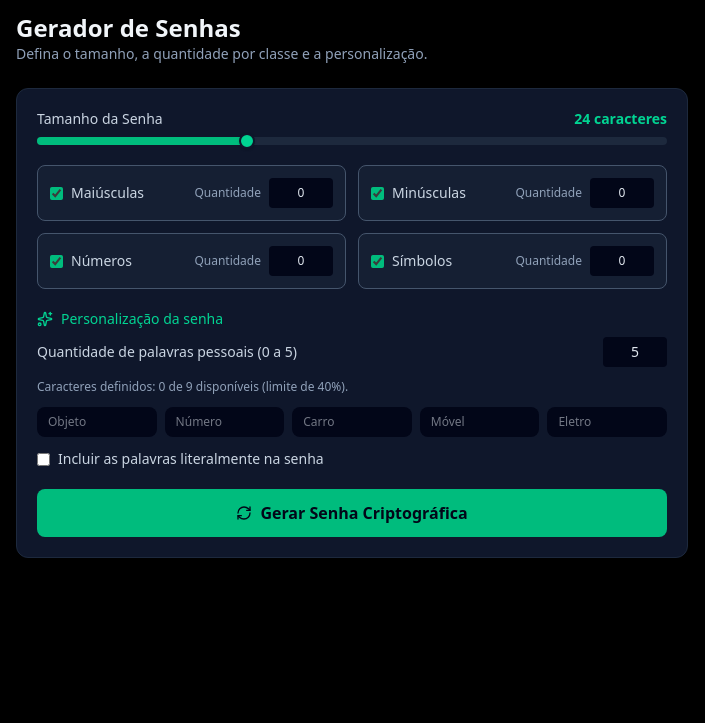
Generator › gera a senha pedindo ao processo main, não no renderer
Click the button "Gerar Senha Criptográfica" at (352, 513), box [37, 489, 667, 537]
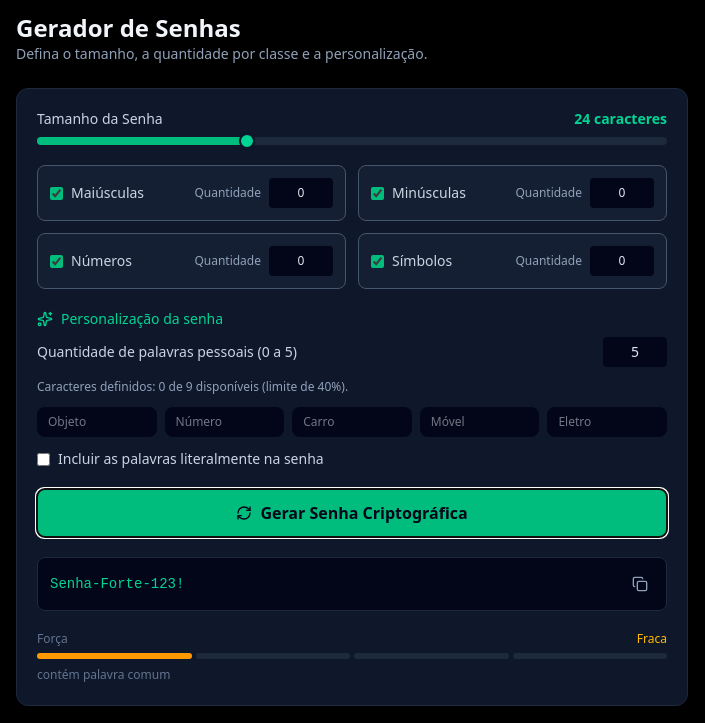
Check: the text "Senha-Forte-123!" is shown, box [50, 574, 184, 594]
